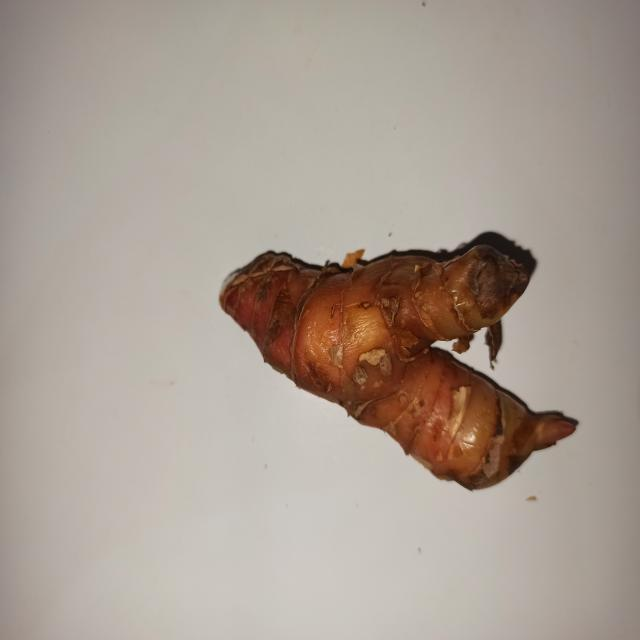ginger: (232, 220, 578, 481)
